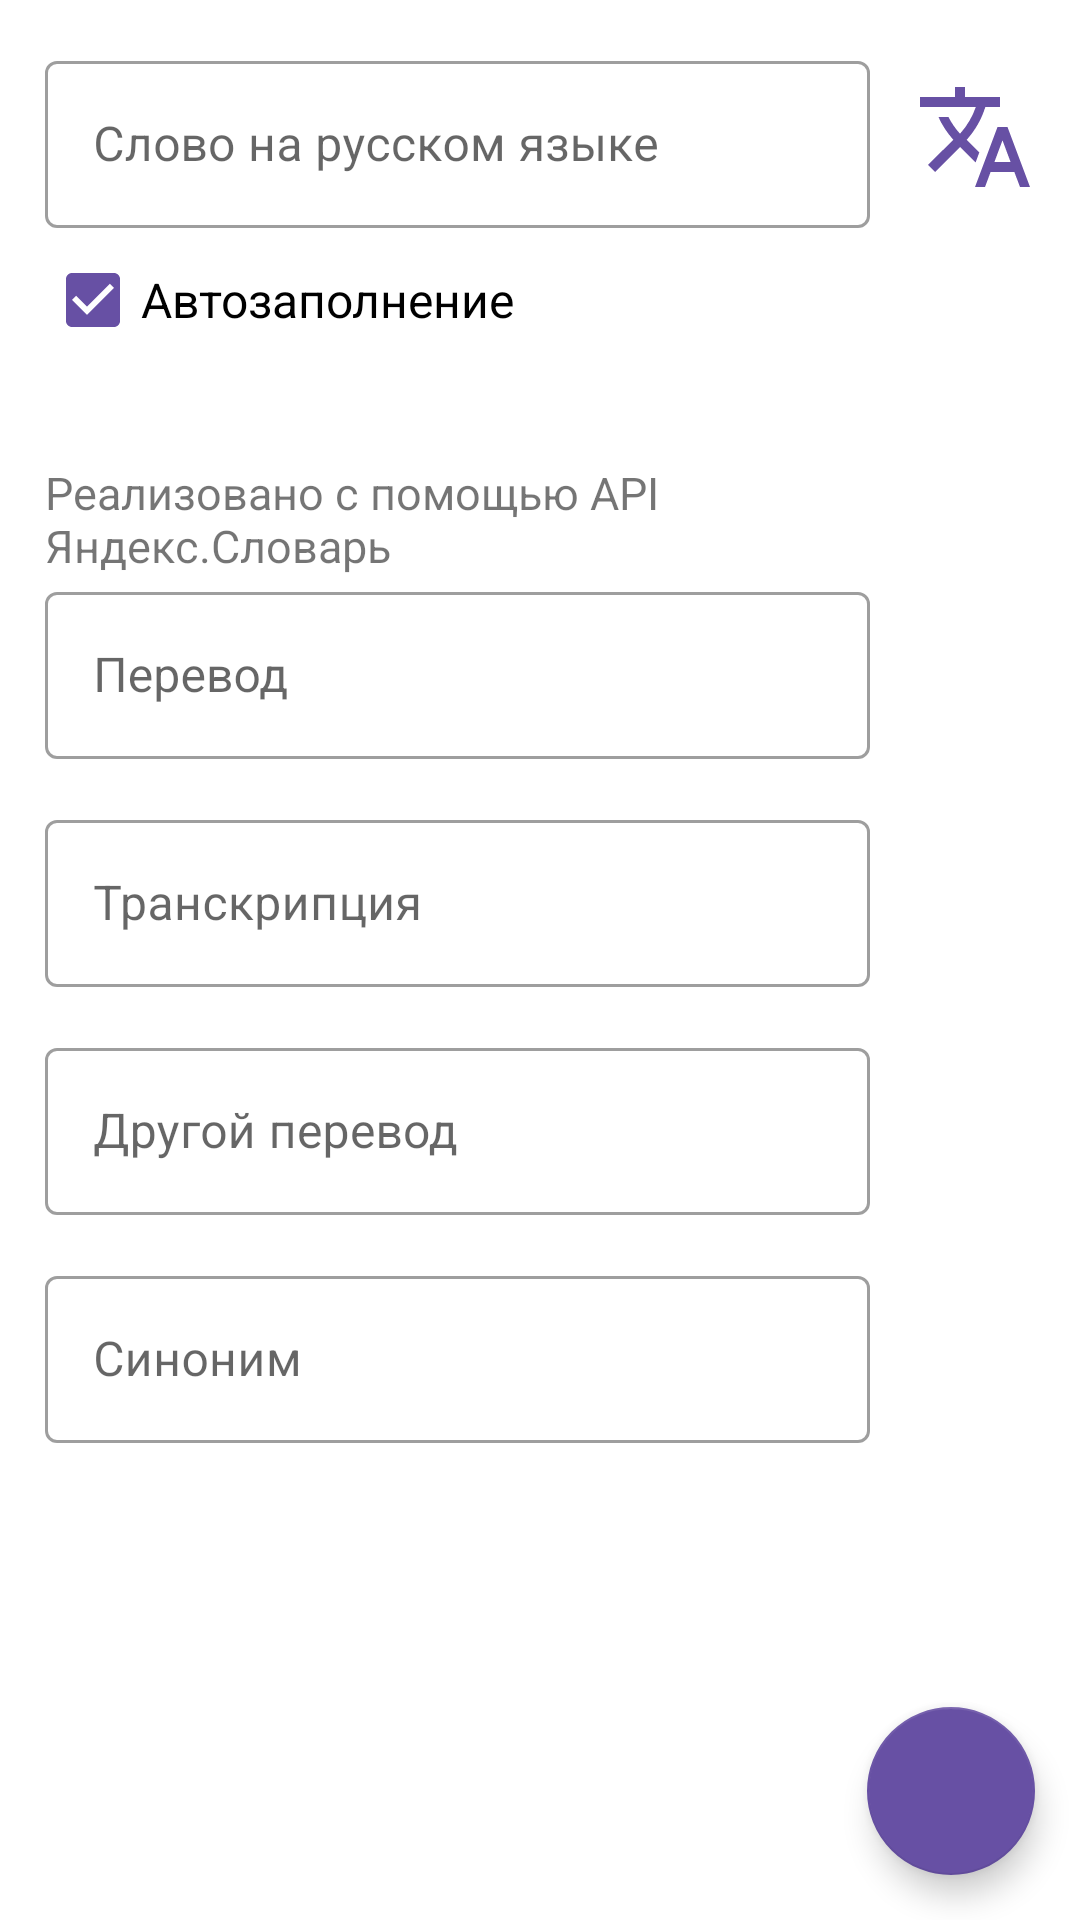

Icon bounding boxes for this 1080px x 1920px phone screenshot, format (x1, y1, x2, y2):
translate: (920, 87, 1030, 187)
